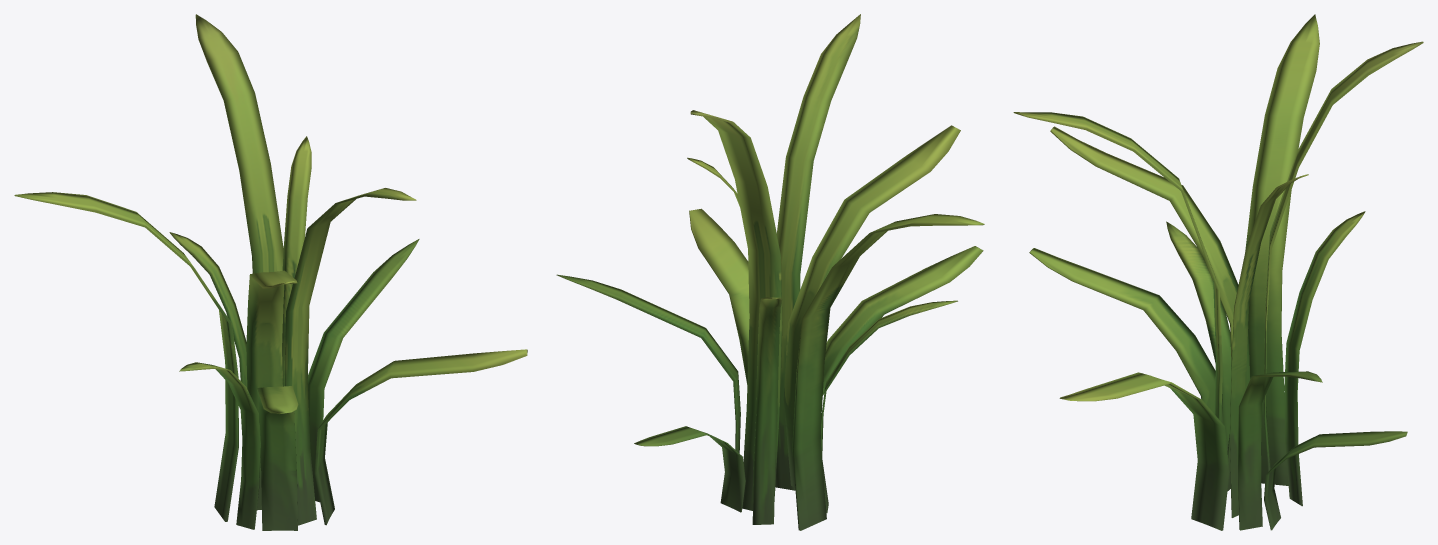
The model's file is grass_1(M).fbx.
3 renders of one model, left to right at view 1: azimuth 30°, elevation 25°; view 2: azimuth 150°, elevation 25°; view 3: azimuth 270°, elevation 25°, orthographic. The views are drawn at different scales.
Visible parts, largest first — view 1: main.001; view 2: main.001; view 3: main.001.
Part boxes in pixels (box(x1,y1,x2,y2)): main.001: box(14, 14, 527, 530); main.001: box(556, 14, 984, 530); main.001: box(1013, 14, 1423, 530).
Size of the model in its own units: 39.6 by 40.5 by 32.28.
